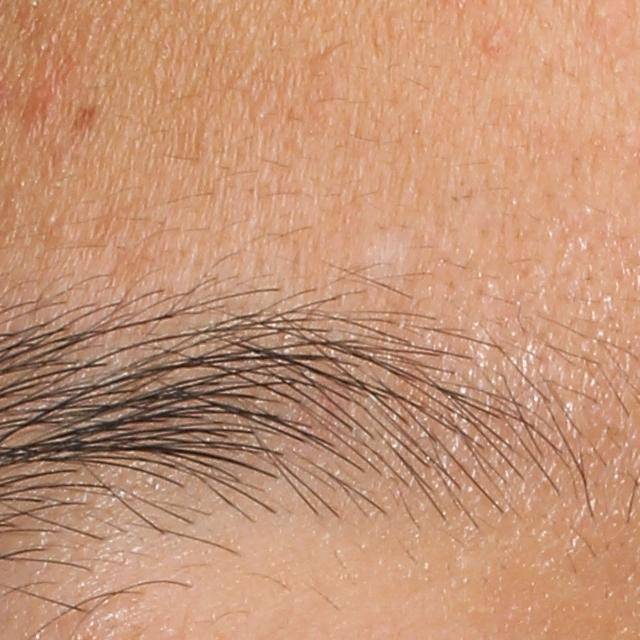comedo: (41, 212, 56, 227)
